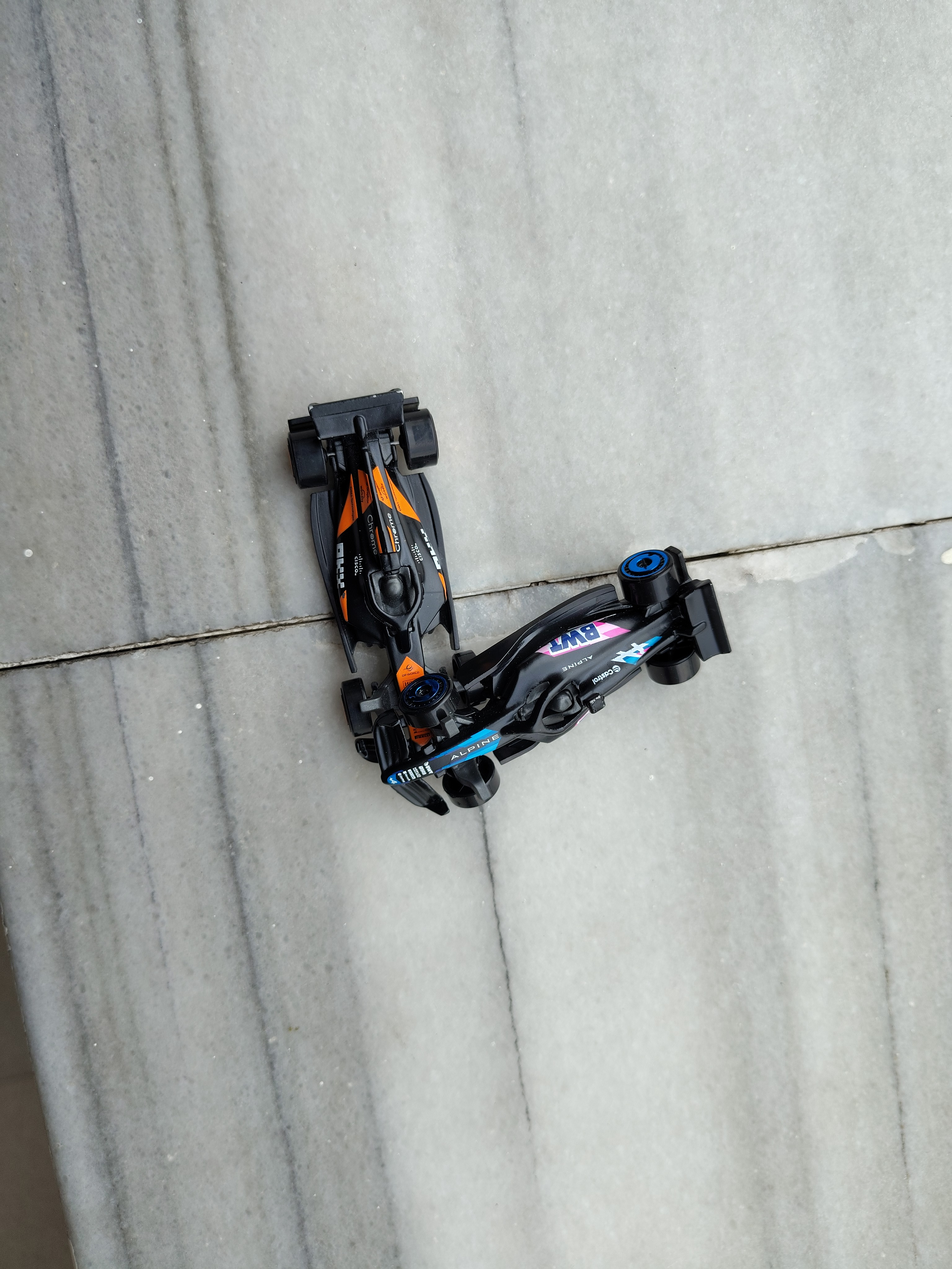Alpine A524: (338, 624, 795, 799)
McLaren MCL40: (253, 333, 497, 677), (341, 623, 792, 804)
